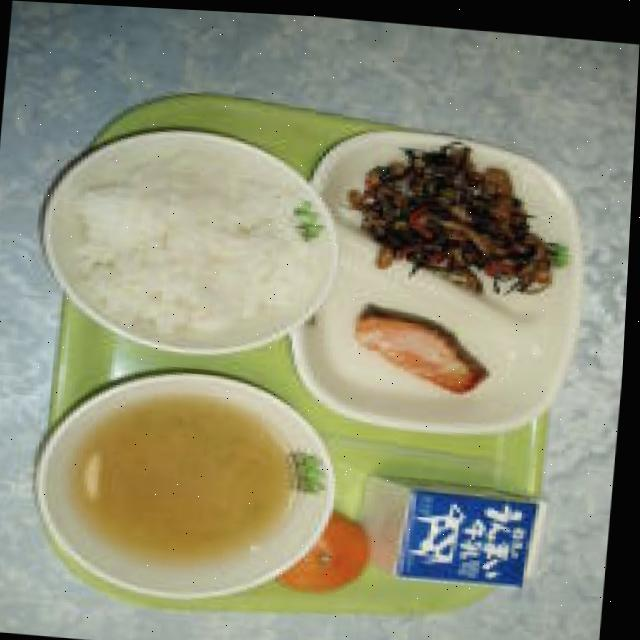熟制海鲜: (337, 300, 530, 389)
